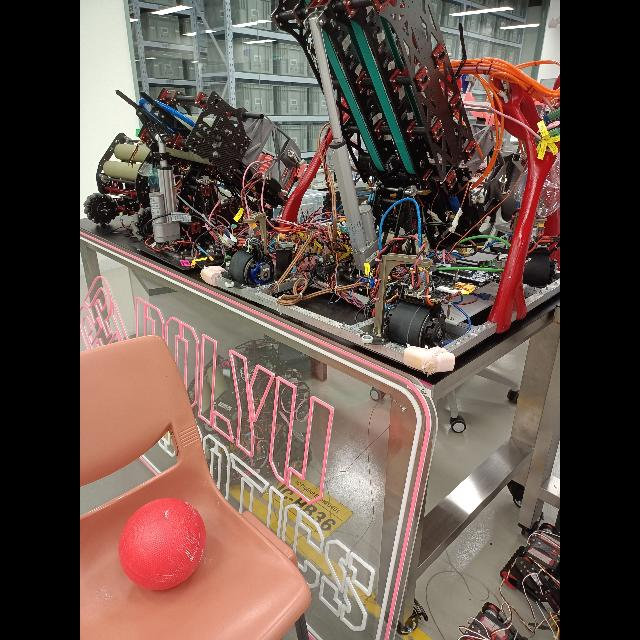R: (117, 496, 209, 594)
